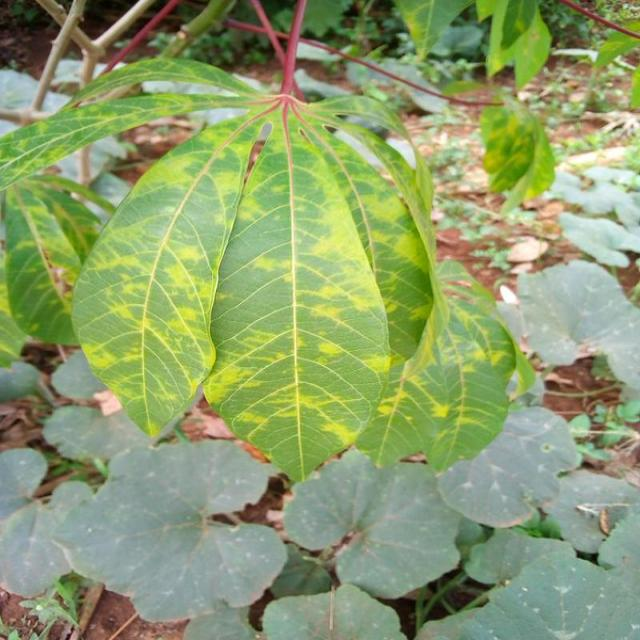cassava leaf: (69, 94, 525, 481), (200, 105, 392, 482), (68, 110, 262, 440)
